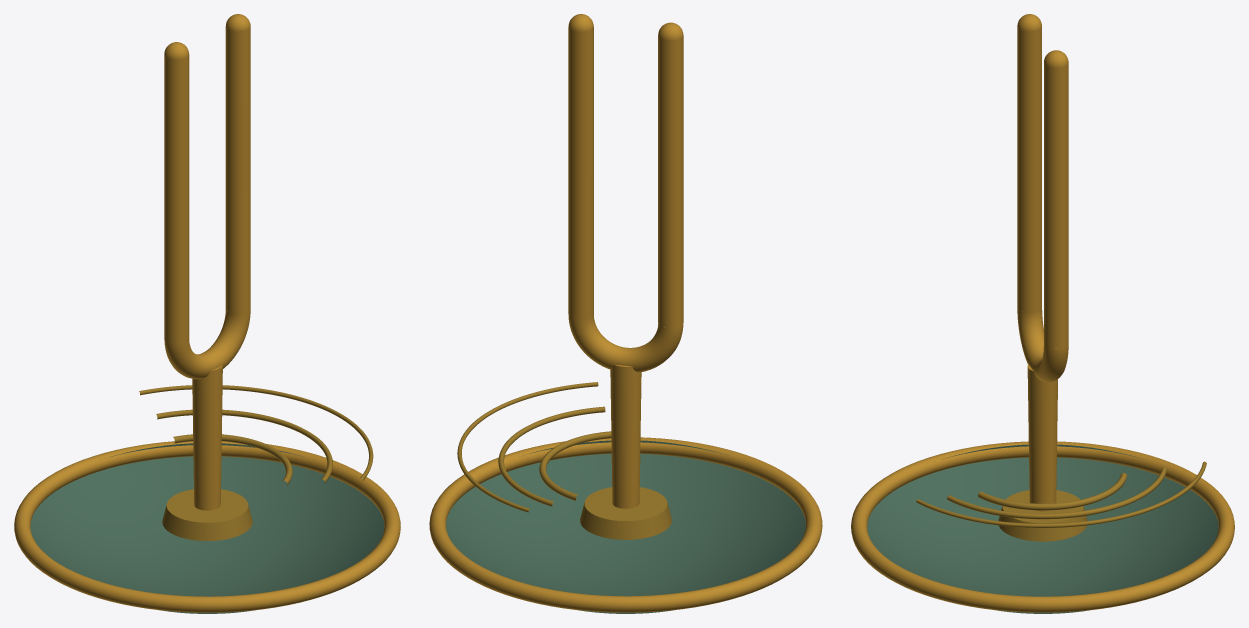
Rendered from zensea-diapason.glb.
The picture shows the model from 3 angles, left to right: view 1: azimuth 30°, elevation 25°; view 2: azimuth 150°, elevation 25°; view 3: azimuth 270°, elevation 25°; orthographic projection. The views are drawn at different scales.
Parts seen in each view (by area): view 1: zensea-diapason; view 2: zensea-diapason; view 3: zensea-diapason.
Boxes of the visible parts, <box> form: zensea-diapason: <box>14,14,400,613</box>; zensea-diapason: <box>429,14,822,613</box>; zensea-diapason: <box>851,14,1234,613</box>.
Bounding box in the file's own units: 0.1796 × 0.2848 × 0.1796.
